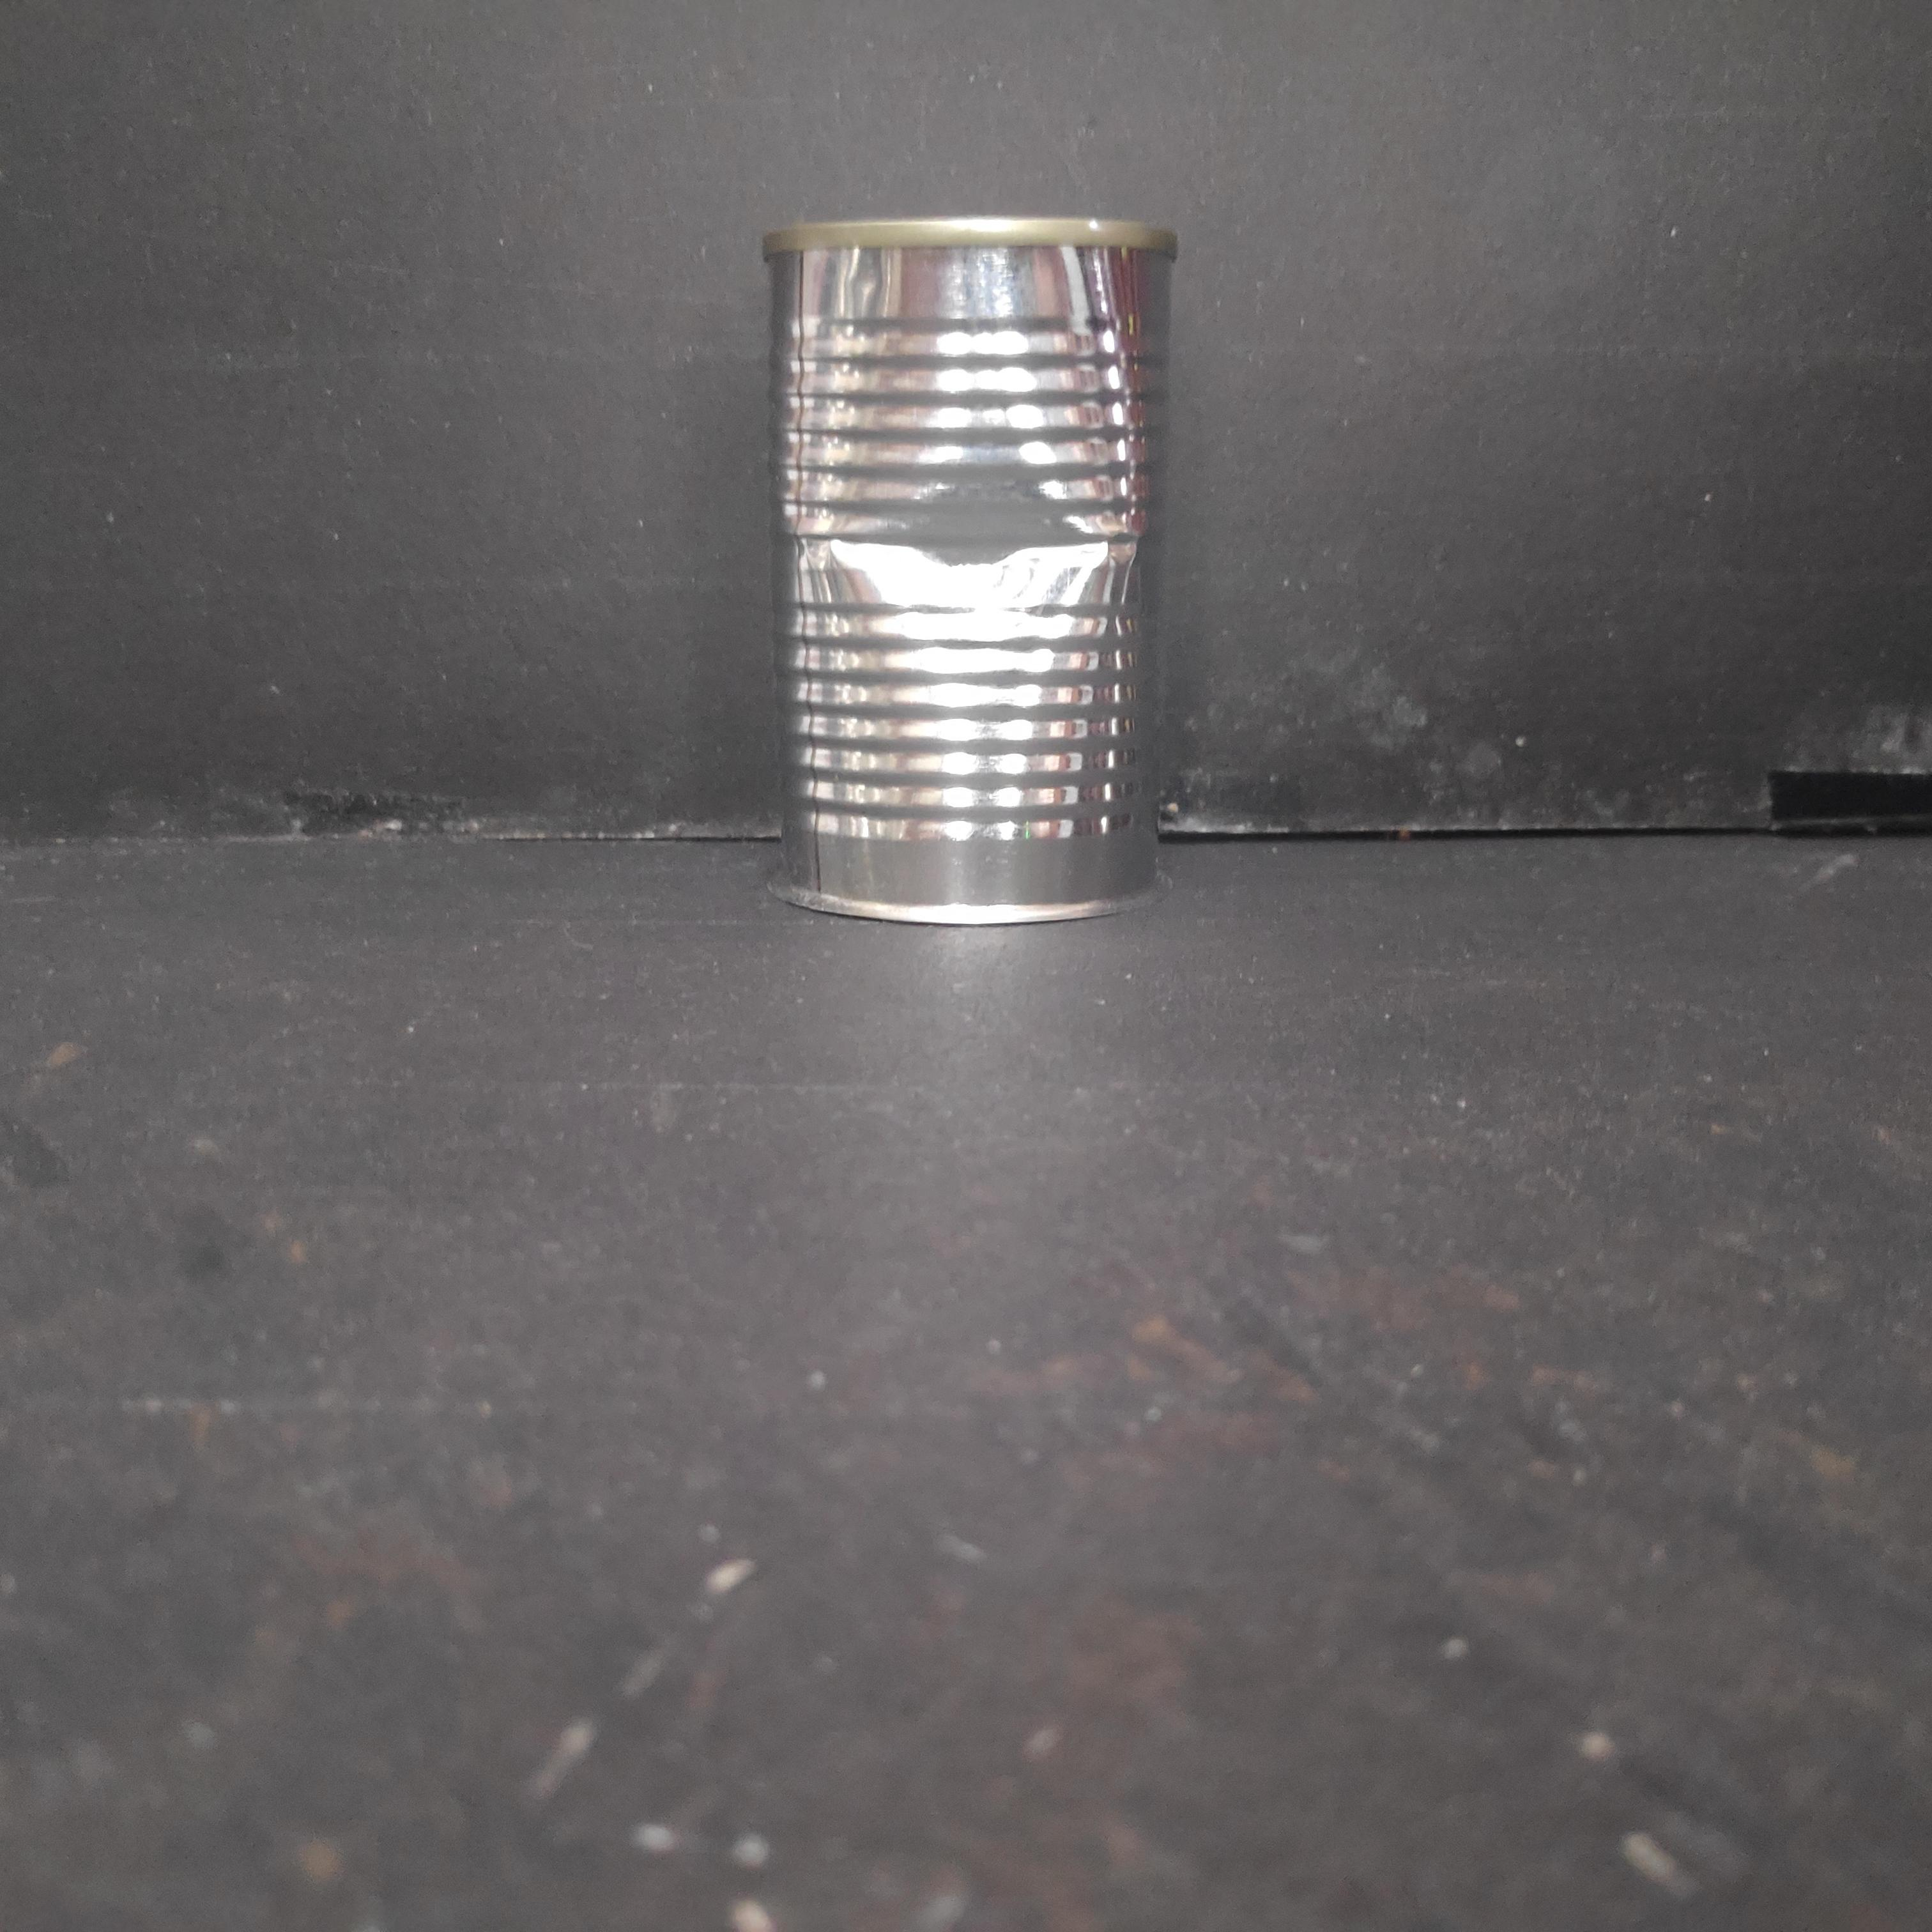Minor Defect: (748, 209, 1191, 934)
